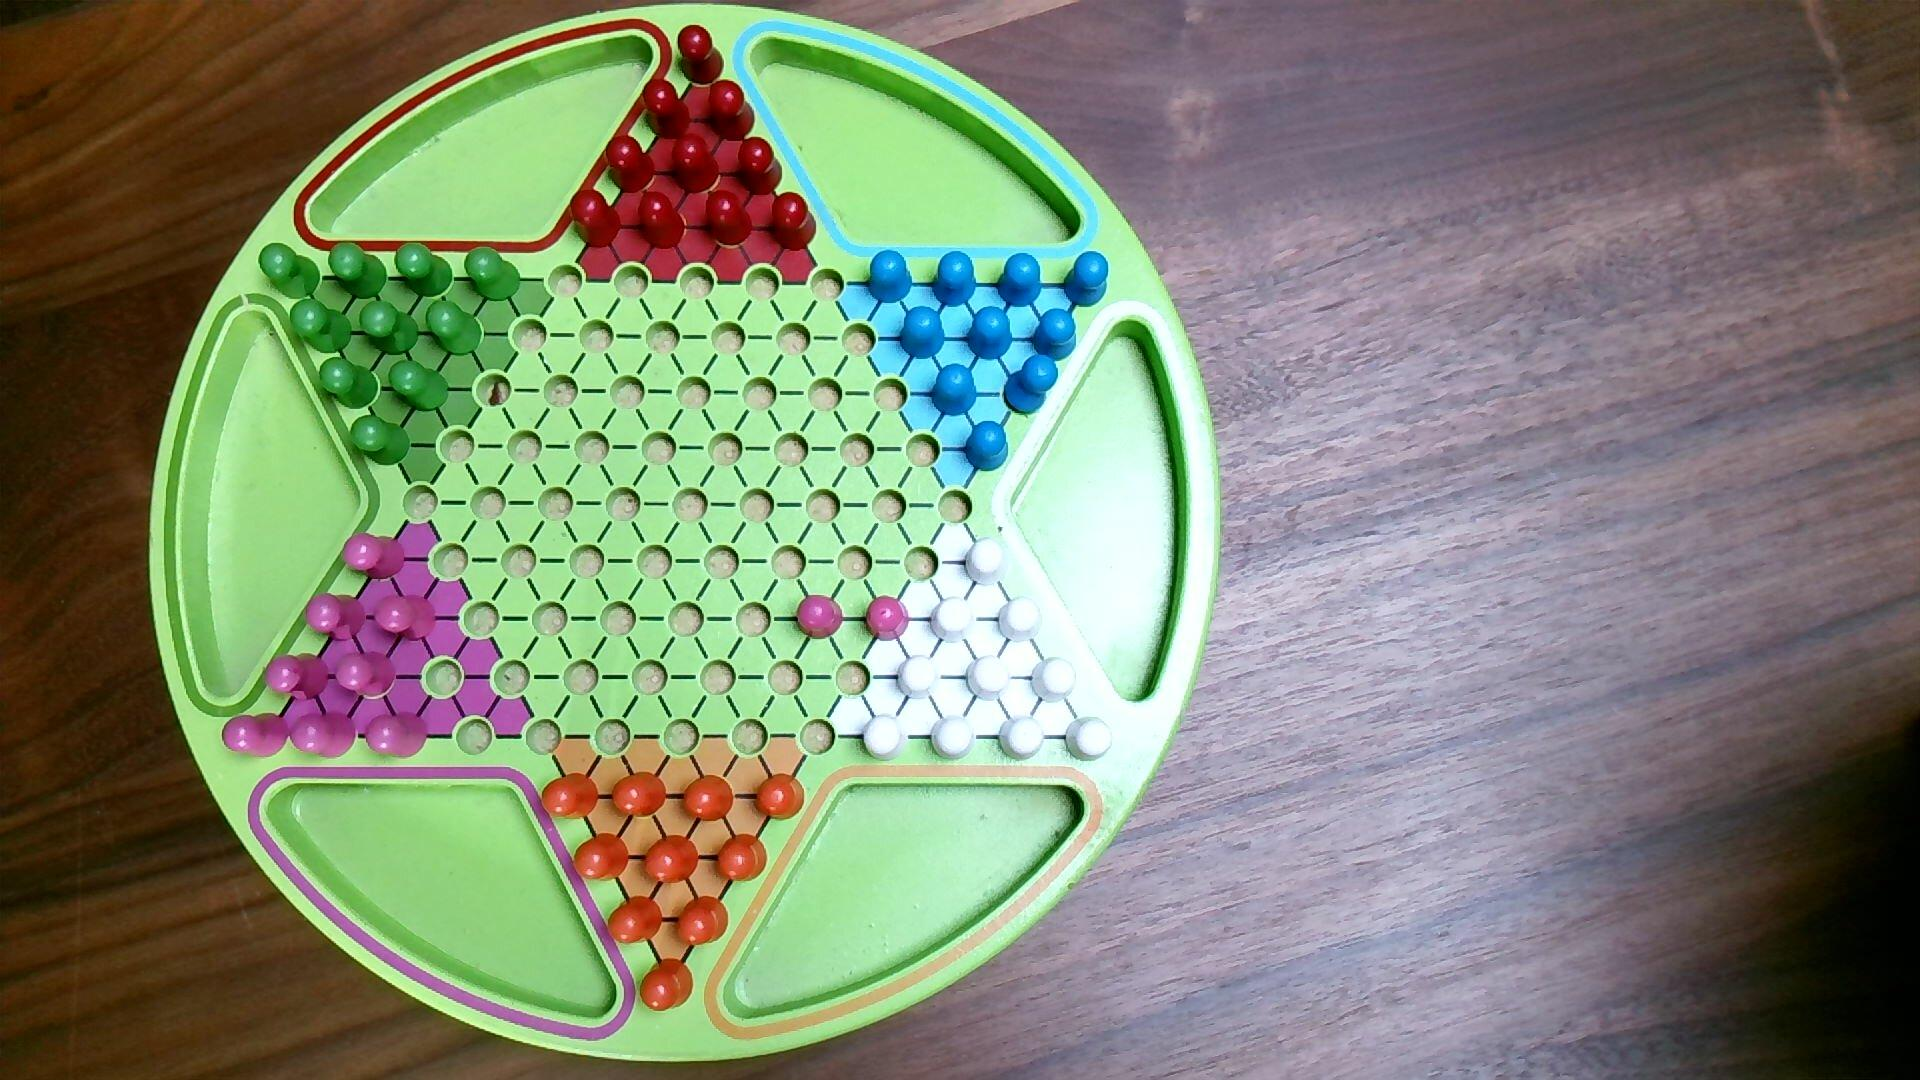B: (1004, 352, 1062, 418), (1060, 251, 1112, 310), (964, 305, 1015, 363), (865, 248, 915, 306), (994, 252, 1044, 310), (897, 305, 947, 363), (930, 251, 978, 310), (930, 363, 980, 417), (963, 419, 1011, 473), (1031, 307, 1079, 363)
G: (257, 241, 323, 302), (393, 240, 456, 301), (326, 241, 389, 302), (356, 299, 421, 357), (386, 357, 452, 414), (287, 297, 353, 353), (316, 355, 381, 411), (425, 299, 485, 359), (463, 245, 524, 305), (349, 414, 414, 468)
O: (638, 956, 696, 1013), (641, 833, 702, 887), (539, 771, 601, 823), (572, 831, 632, 884), (674, 894, 731, 948), (713, 832, 770, 885), (607, 895, 665, 947), (680, 771, 736, 824), (611, 770, 669, 820), (752, 771, 806, 823)
R: (568, 187, 625, 252), (638, 76, 694, 142), (603, 132, 658, 196), (669, 131, 723, 196), (705, 78, 758, 145), (636, 189, 688, 253), (766, 190, 819, 255), (702, 189, 756, 251), (676, 22, 727, 88), (735, 135, 785, 198)
R2: (287, 709, 359, 761), (262, 651, 332, 702), (364, 709, 431, 761), (372, 592, 439, 644), (340, 531, 407, 583), (220, 711, 290, 760), (335, 649, 398, 702), (305, 592, 368, 644), (862, 593, 913, 644), (794, 593, 845, 642)
W: (860, 713, 910, 764), (928, 713, 978, 764), (997, 713, 1047, 764), (1064, 715, 1116, 764), (928, 595, 977, 646), (1030, 655, 1079, 705), (964, 653, 1011, 704), (964, 535, 1010, 588), (996, 595, 1044, 644), (895, 654, 943, 702)
